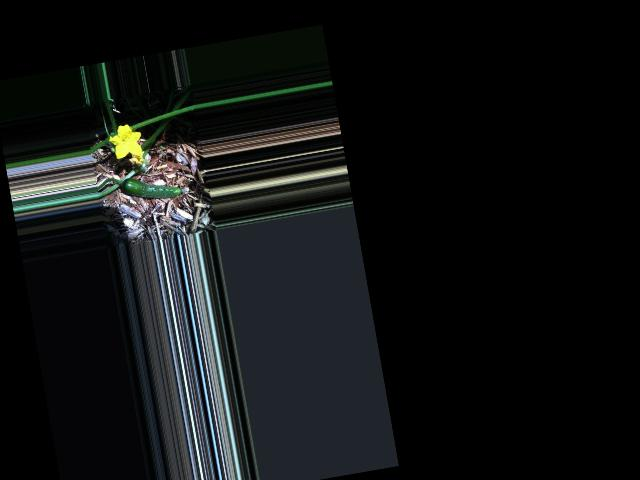cucumber: (119, 168, 188, 206)
